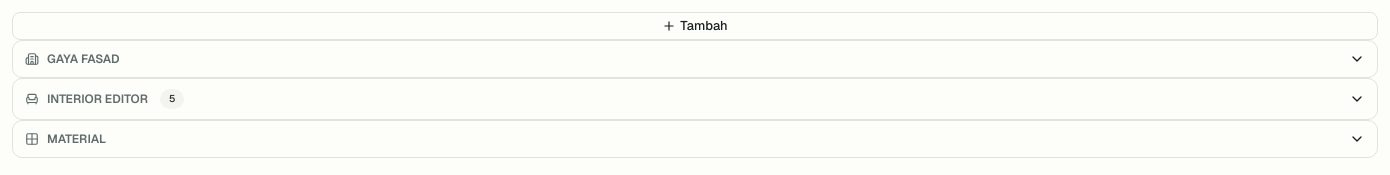
Test: PreviewControlsBody — Fase 6 (+Tambah menu, section kolaps) › + Tambah: menu berisi Kolam renang, Tangga, Model 3D kustom
This screenshot has width=1390, height=175.
Step 1. Press the mouse on the button with test id "preview-add-menu" → (695, 26), box [12,12,1378,40]
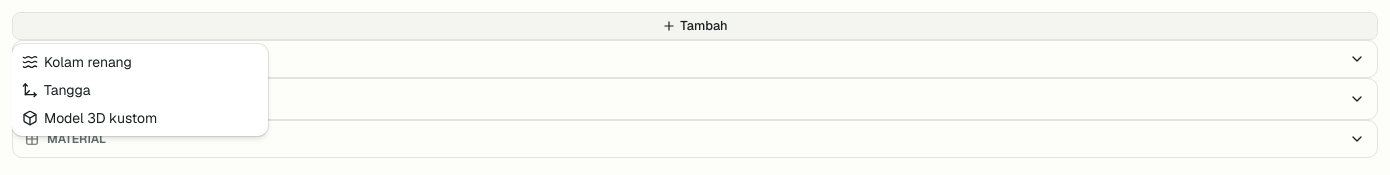
expect the menu item with test id "pool-add" is shown: met, box [22,53,132,71]
expect the menu item with test id "stair-add" is shown: met, box [22,81,91,99]
expect the menu item with test id "room-custom-model" is shown: met, box [22,109,157,127]
